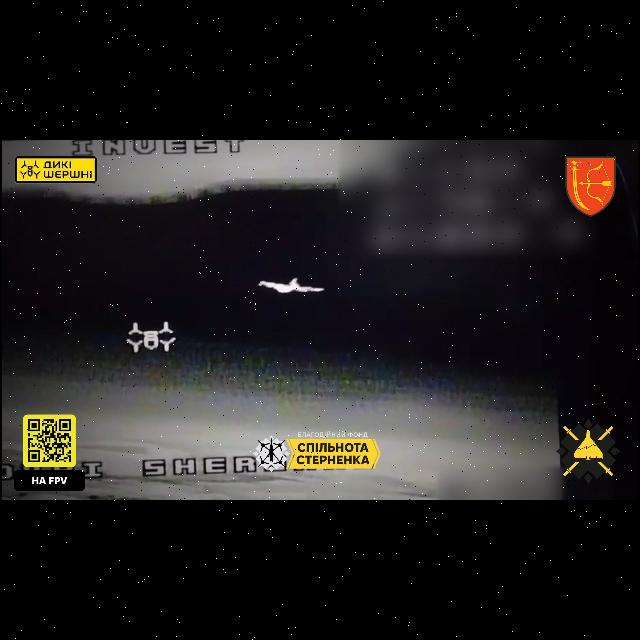Gerbera: (258, 276, 326, 294)
